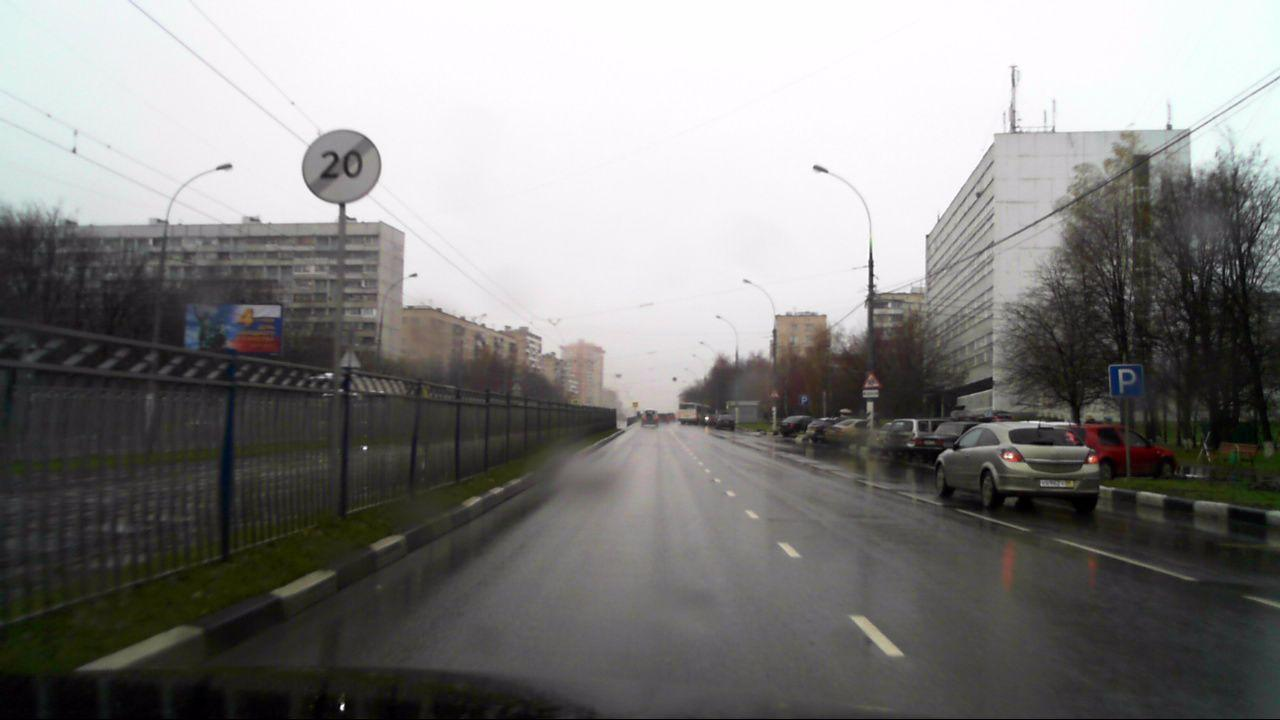1_23: (861, 373, 881, 389)
3_25: (302, 131, 380, 203)
6_4: (1109, 360, 1146, 394), (800, 395, 809, 405)
8_2_1: (862, 389, 880, 397)
